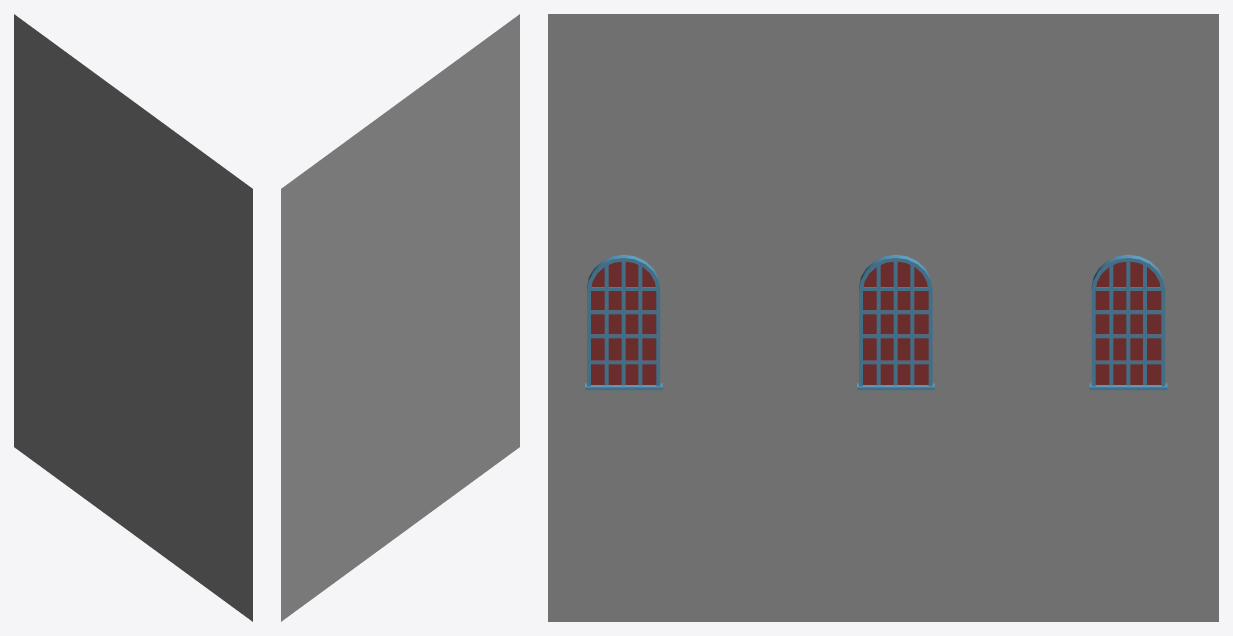
The model's file is Prop_Wallext_9x9_3Windows_01.fbx.
3 renders of one model, left to right at view 1: azimuth 30°, elevation 25°; view 2: azimuth 150°, elevation 25°; view 3: azimuth 270°, elevation 25°, orthographic. The views are drawn at different scales.
Visible parts, largest first — view 1: Prop_Wallext_9x9_3Windows_02; view 2: Prop_Wallext_9x9_3Windows_02; view 3: Prop_Wallext_9x9_3Windows_02.
Part boxes in pixels (x1=…): Prop_Wallext_9x9_3Windows_02: x1=14, y1=14, x2=252, y2=621; Prop_Wallext_9x9_3Windows_02: x1=281, y1=14, x2=519, y2=621; Prop_Wallext_9x9_3Windows_02: x1=548, y1=14, x2=1218, y2=621.
Size of the model in its own units: 0.2277 by 9 by 9.
